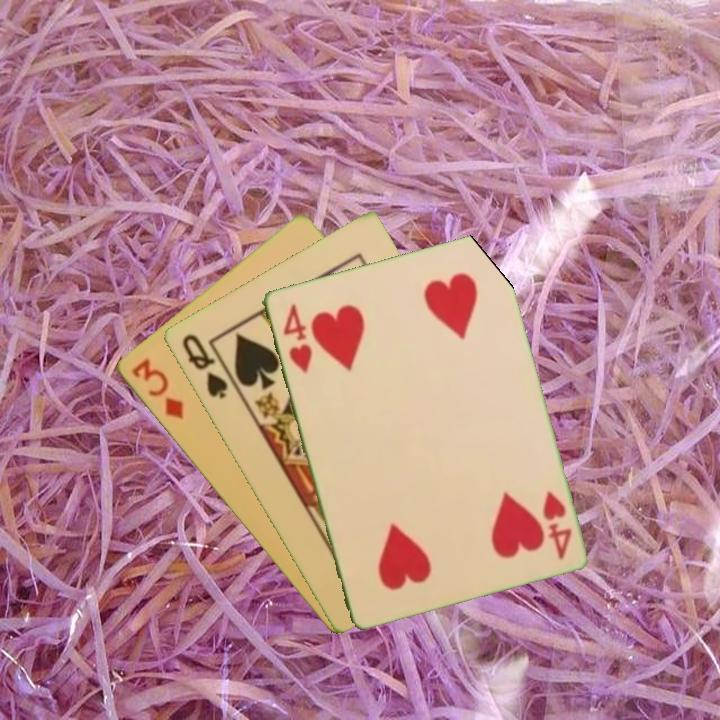3d: (127, 355, 186, 423)
4h: (279, 300, 315, 377), (538, 487, 574, 562)
Qs: (178, 330, 231, 402)
